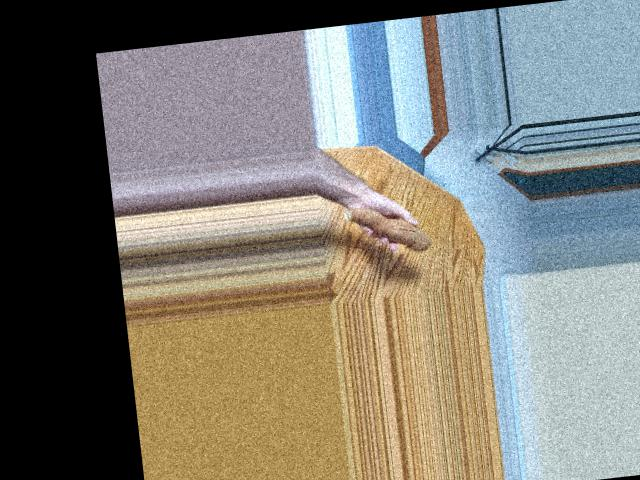sweet_potato: (341, 193, 434, 260)
